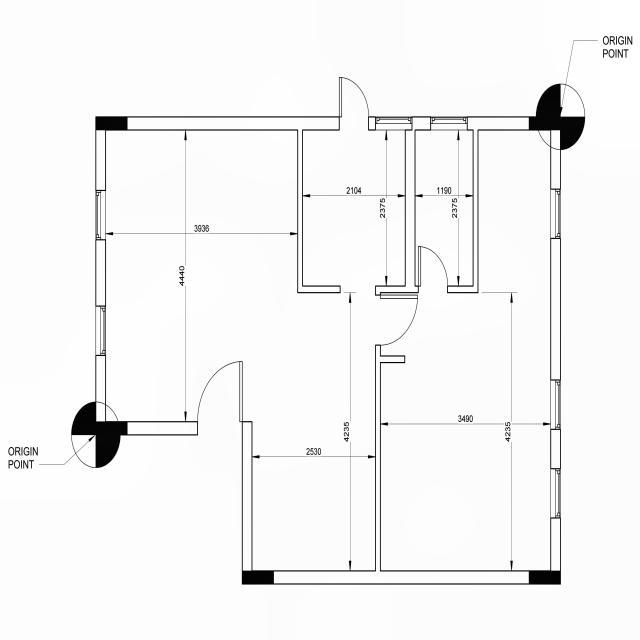Column: (528, 569, 562, 587), (527, 114, 561, 130), (242, 570, 274, 586), (95, 116, 128, 131), (95, 421, 128, 435)
Door: (197, 360, 243, 435), (375, 294, 420, 346), (338, 76, 370, 132), (417, 244, 448, 296)
Window: (95, 305, 107, 358), (550, 468, 562, 520), (550, 188, 562, 240), (429, 116, 468, 132), (374, 115, 413, 131), (550, 378, 561, 431), (95, 190, 106, 242)
